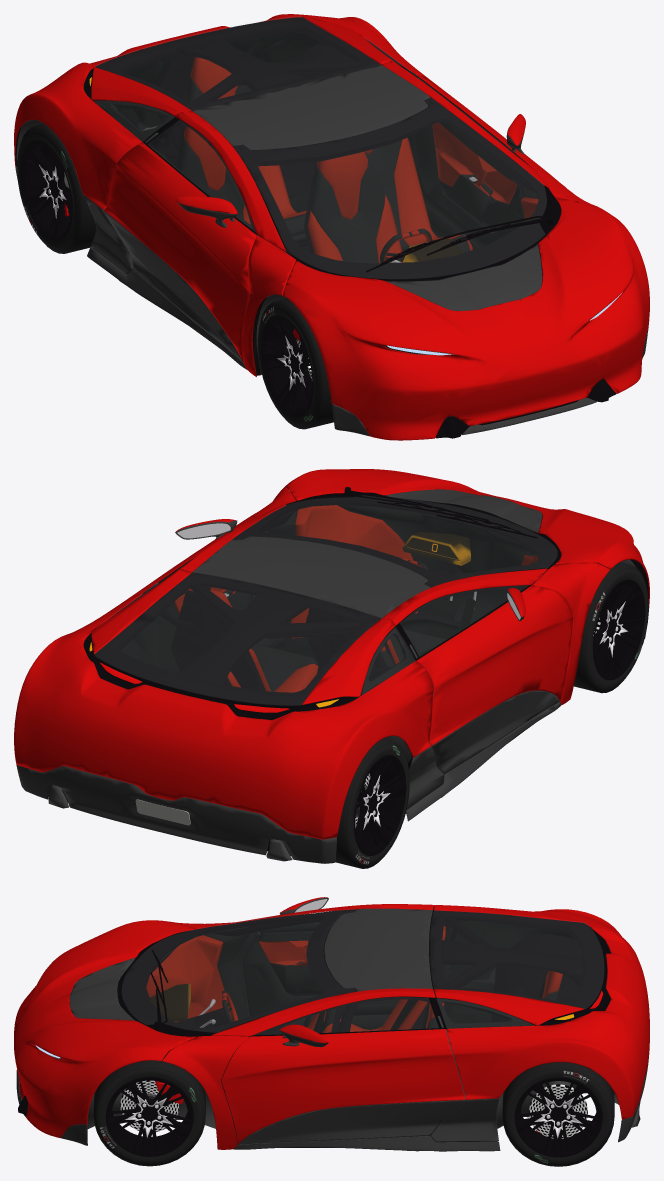
The model's file is carconcept.glb.
3 views of the same model, one above another, from view 1: azimuth 30°, elevation 25°; view 2: azimuth 150°, elevation 25°; view 3: azimuth 270°, elevation 25° (orthographic). The views are drawn at different scales.
Visible parts, largest first — view 1: Body, WheelFrontRSpin, WheelRearRSpin; view 2: Body, WheelFrontRSpin, WheelRearRSpin; view 3: Body, WheelRearLSpin, WheelFrontLSpin, Steering.
Part boxes in pixels (x1=…): Body: x1=14, y1=14, x2=649, y2=440; WheelFrontRSpin: x1=257, y1=298, x2=333, y2=429; WheelRearRSpin: x1=17, y1=123, x2=95, y2=253; Body: x1=14, y1=469, x2=649, y2=863; WheelFrontRSpin: x1=574, y1=562, x2=648, y2=693; WheelRearRSpin: x1=335, y1=738, x2=409, y2=868; Body: x1=14, y1=897, x2=649, y2=1151; WheelRearLSpin: x1=502, y1=1062, x2=614, y2=1166; WheelFrontLSpin: x1=93, y1=1058, x2=205, y2=1166; Steering: x1=194, y1=990, x2=238, y2=1027.
Bounding box in the file's own units: 2.34 × 1.15 × 4.36.
Materials: 23 (5 with a texture image).
